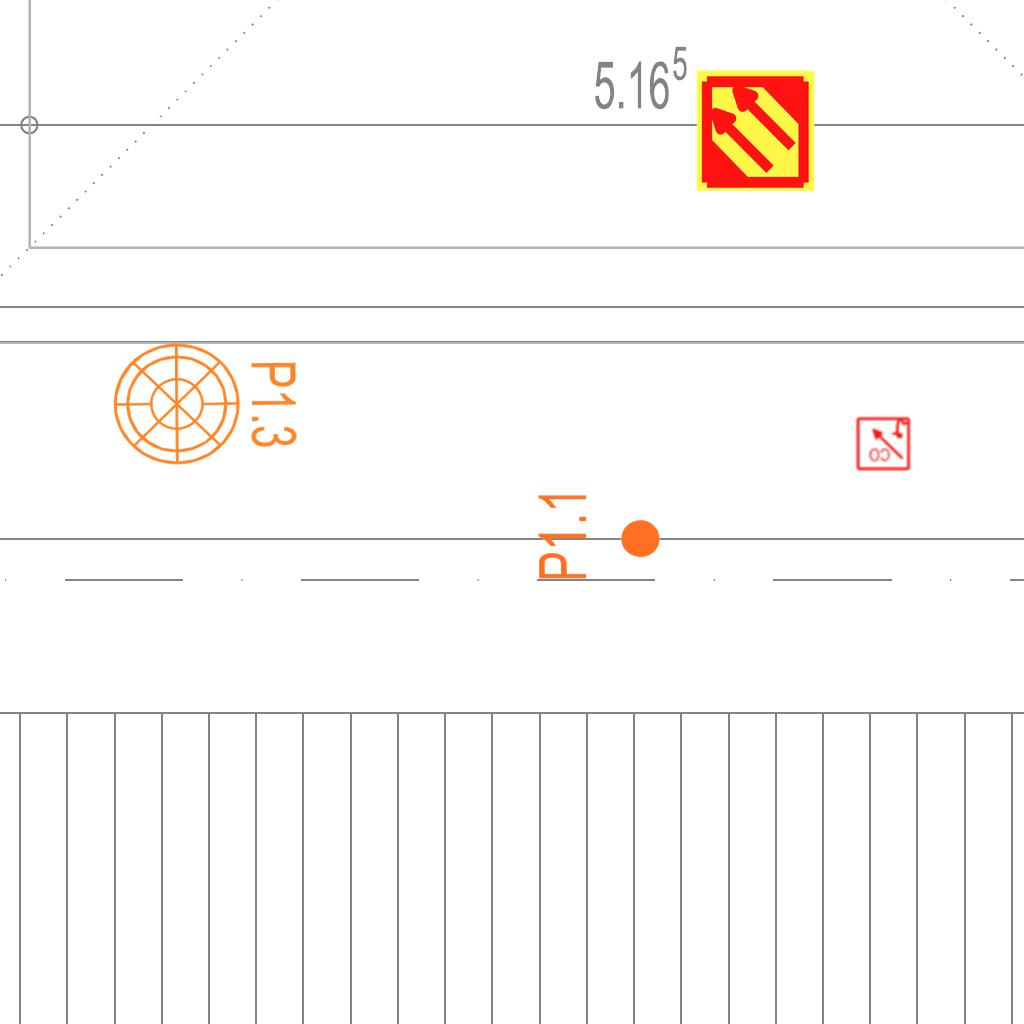ASR_Ansaugrauchmelder: (693, 68, 818, 193)
Aufbaurundleuchte_LED_Treppenhaus: (110, 340, 315, 479)
Downlight_LED_Einbauleuchten_Flur_2: (535, 489, 663, 582)
ROA_Rauchmelder_optisch_mit_Signalgeber_(Sockelsirene): (855, 415, 911, 471)
